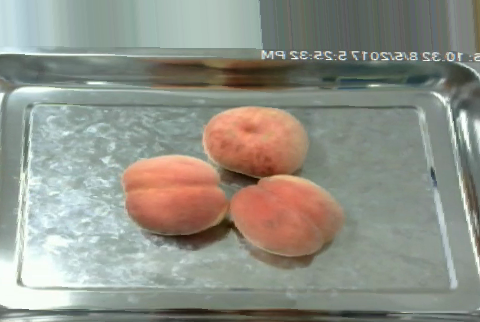Peach: (228, 174, 341, 257), (122, 154, 225, 234), (201, 105, 309, 178)
